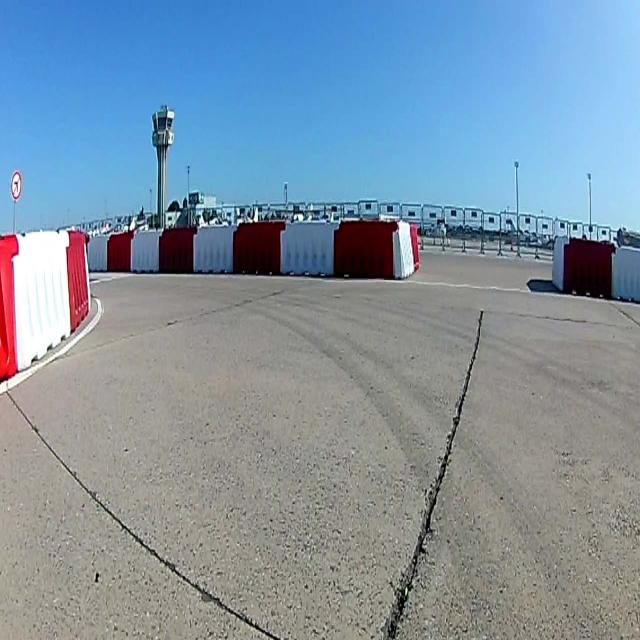soladonulmez: (10, 173, 22, 199)
